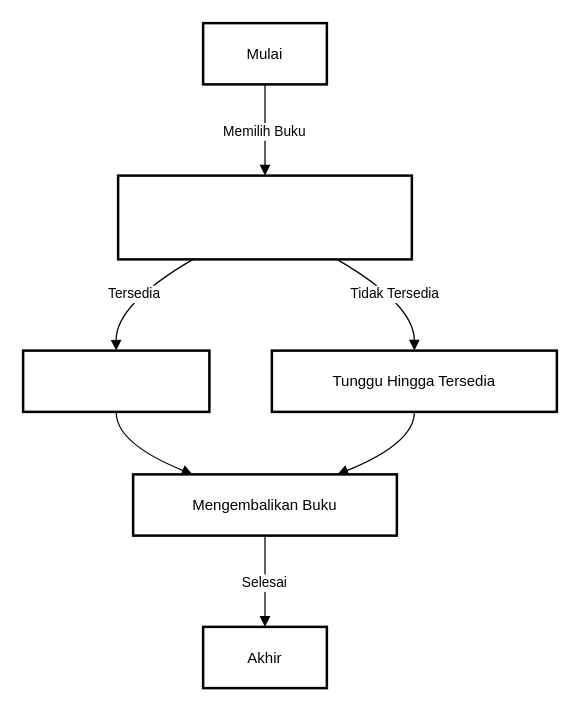
This 579x710 diagram has some shape labels left out. Each missing label, with the box of its shape:
Memeriksa Ketersediaan Buku: (116, 174, 412, 260)
Pinjam Buku: (21, 349, 210, 412)
